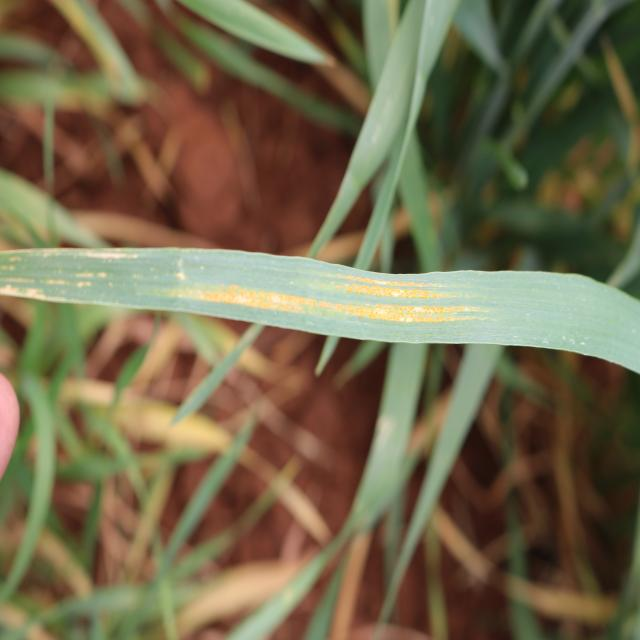Stripe Rust: (166, 280, 300, 322), (333, 301, 498, 324), (337, 279, 472, 299)
